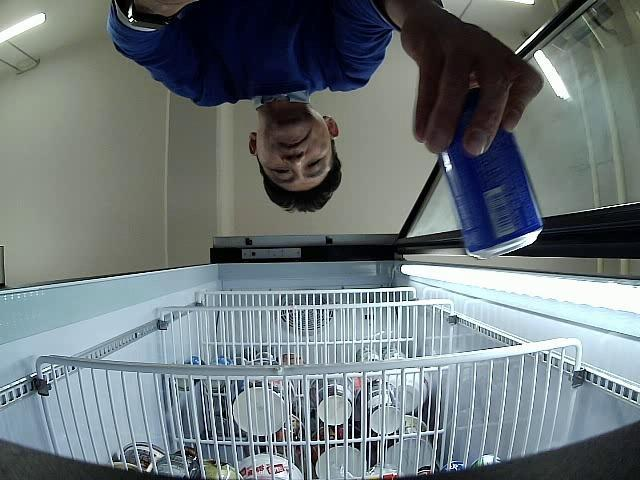13_pocariSweat: (439, 89, 542, 260)
